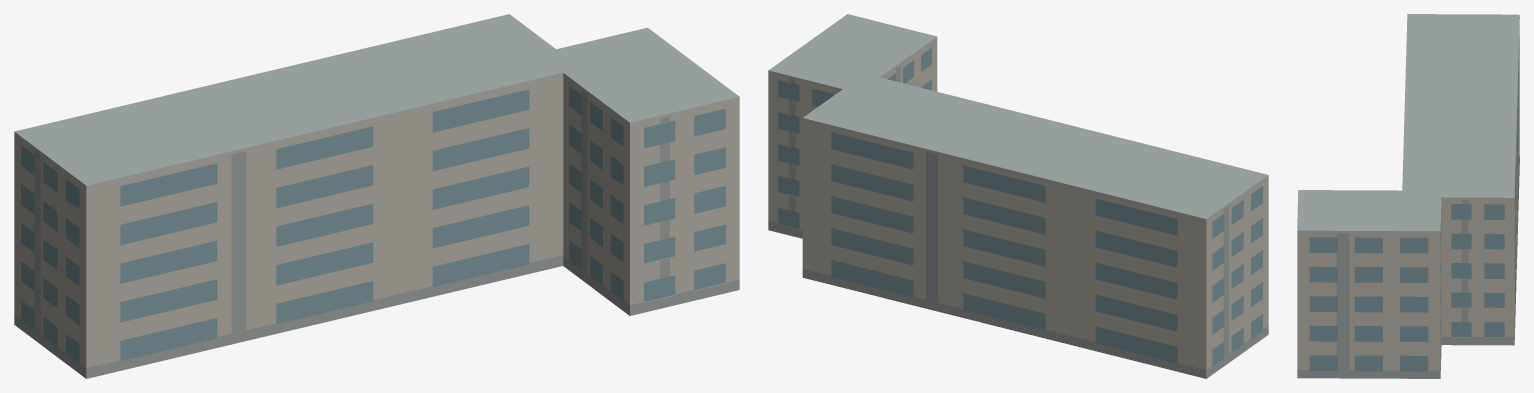
Rendered from residential-b12cedcc-507b-465d-8f61-1f56d28790ed.glb.
The picture shows the model from 3 angles, left to right: view 1: azimuth 30°, elevation 25°; view 2: azimuth 150°, elevation 25°; view 3: azimuth 270°, elevation 25°; orthographic projection. The views are drawn at different scales.
Parts seen in each view (by area): view 1: residential-b12cedcc-507b-465d-8f61-1f56d28790ed.tmp; view 2: residential-b12cedcc-507b-465d-8f61-1f56d28790ed.tmp; view 3: residential-b12cedcc-507b-465d-8f61-1f56d28790ed.tmp.
Part boxes in pixels (x1,y1,x2,y2): residential-b12cedcc-507b-465d-8f61-1f56d28790ed.tmp: (14,14,739,378); residential-b12cedcc-507b-465d-8f61-1f56d28790ed.tmp: (768,14,1268,378); residential-b12cedcc-507b-465d-8f61-1f56d28790ed.tmp: (1297,14,1519,378).
Size of the model in its own units: 48.17 by 15.25 by 20.86.
